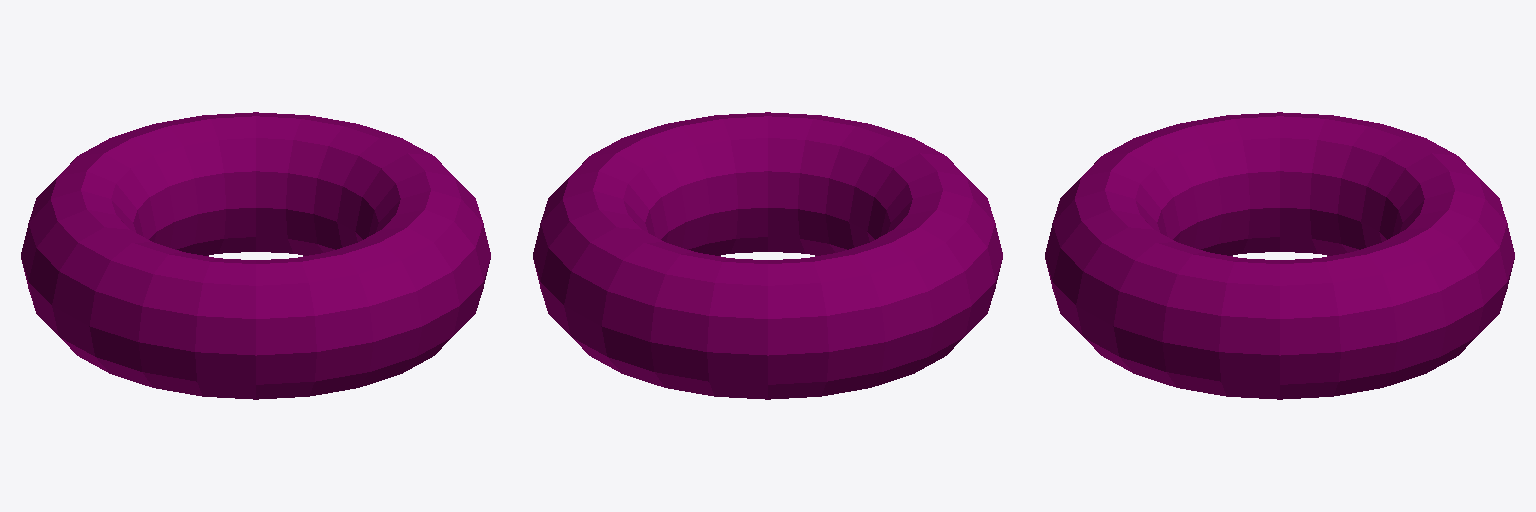
Rendered from yuanhuan.obj.
3 views of the same model, side by side, from view 1: azimuth 30°, elevation 25°; view 2: azimuth 150°, elevation 25°; view 3: azimuth 270°, elevation 25° (orthographic).
Visible parts, largest first — view 1: Torus001; view 2: Torus001; view 3: Torus001.
Boxes of the visible parts, x1=… form: Torus001: x1=21, y1=112, x2=490, y2=399; Torus001: x1=533, y1=112, x2=1002, y2=399; Torus001: x1=1045, y1=112, x2=1514, y2=399.
Size of the model in its own units: 252 by 77.52 by 252.